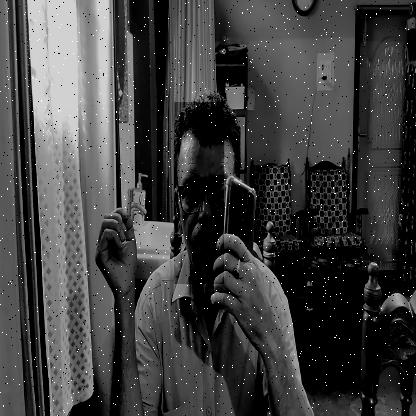Normal: (174, 102, 224, 284)
